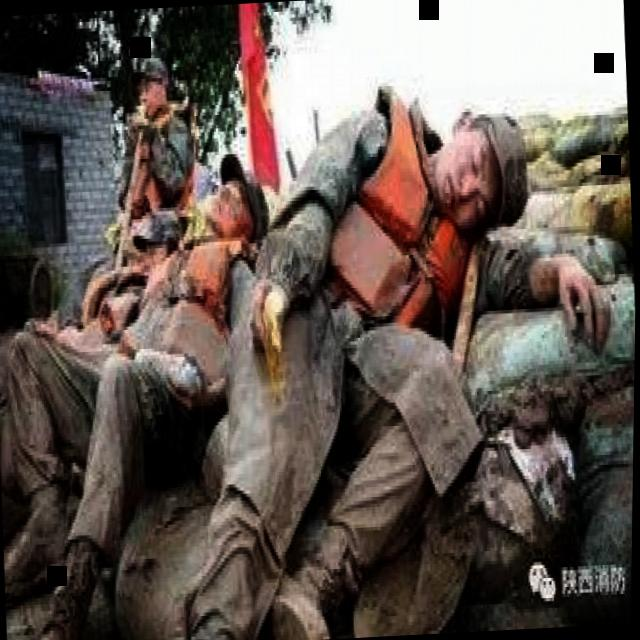Fall-Detected: (0, 171, 247, 623)
